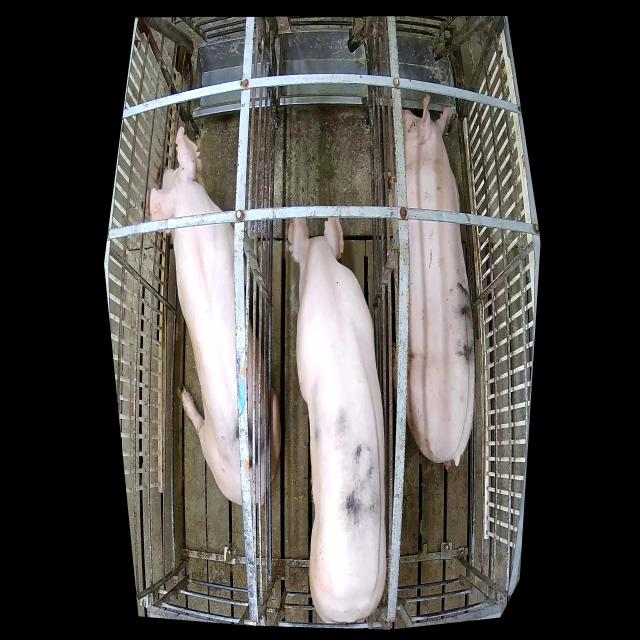pig: (145, 128, 280, 504), (288, 217, 386, 623), (402, 95, 475, 468)
